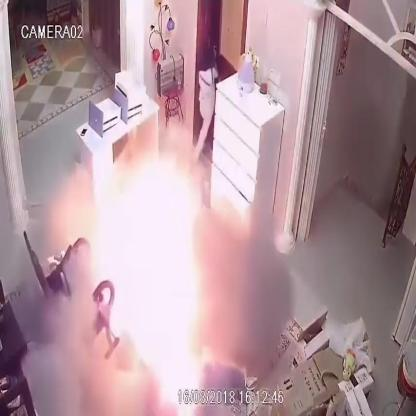fire: (92, 150, 204, 407)
